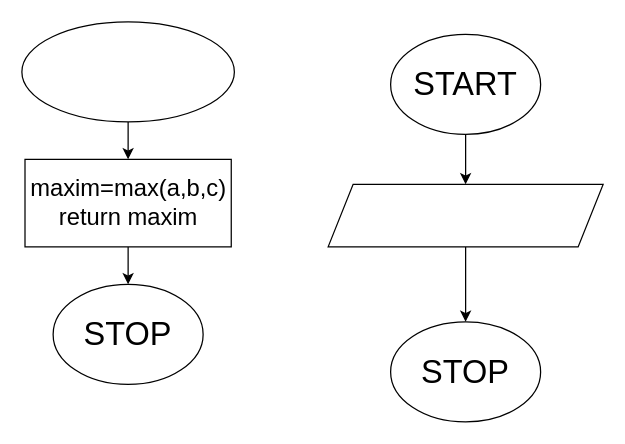
The diagram is 625 pixels wide and 444 high, and some of its shapes have lost their labels. The shapes that lost their labels are listed below. From the top down, each one's centre as x and y in pixels, then its label:
the point at 127,71: def maxim(a,b,c)
the point at 465,215: print(maxim(2,77,11))
